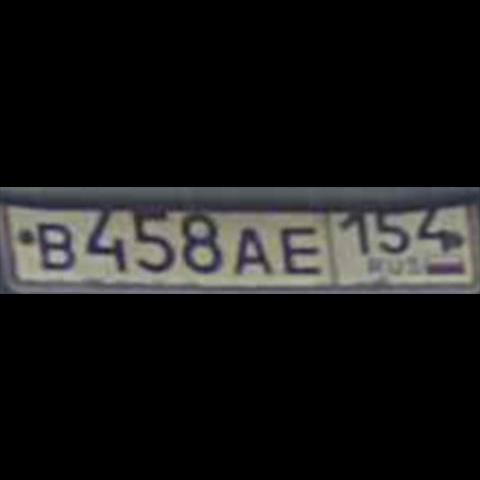license-plateSW: (6, 199, 478, 291)
